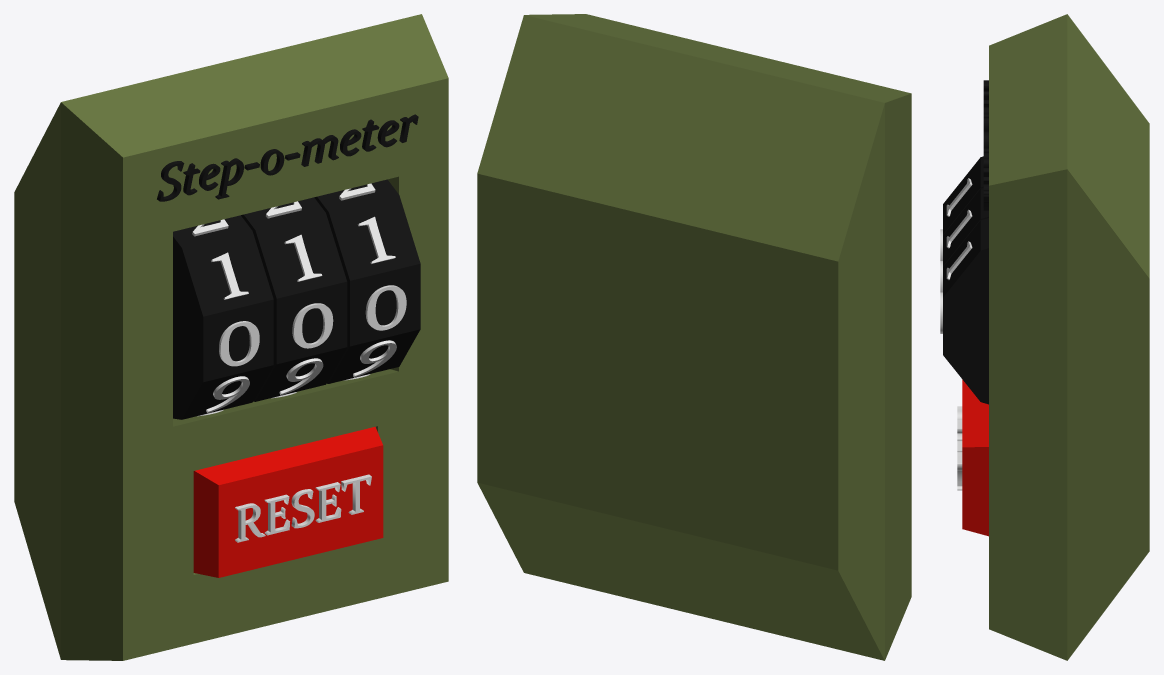
Rendered from StepCounter.glb.
The picture shows the model from 3 angles, left to right: view 1: azimuth 30°, elevation 25°; view 2: azimuth 150°, elevation 25°; view 3: azimuth 270°, elevation 25°; orthographic projection. The views are drawn at different scales.
Visible parts, largest first — view 1: Cube, Hundreds, Tens, Ones, Text.001, Text; view 2: Cube; view 3: Cube, Ones, Tens, Hundreds, Text.001, Text.
Part boxes in pixels (bbox=[...]): Cube: bbox=[14, 14, 448, 660]; Hundreds: bbox=[173, 215, 273, 419]; Tens: bbox=[241, 197, 347, 401]; Ones: bbox=[314, 179, 420, 383]; Text.001: bbox=[157, 114, 418, 201]; Text: bbox=[235, 474, 371, 542]; Cube: bbox=[477, 14, 911, 660]; Cube: bbox=[962, 14, 1149, 660]; Ones: bbox=[940, 218, 988, 404]; Tens: bbox=[940, 188, 988, 292]; Hundreds: bbox=[940, 156, 983, 260]; Text.001: bbox=[983, 80, 988, 210]; Text: bbox=[957, 406, 962, 490].
Bounding box in the file's own units: 2 × 2.95 × 1.14.
